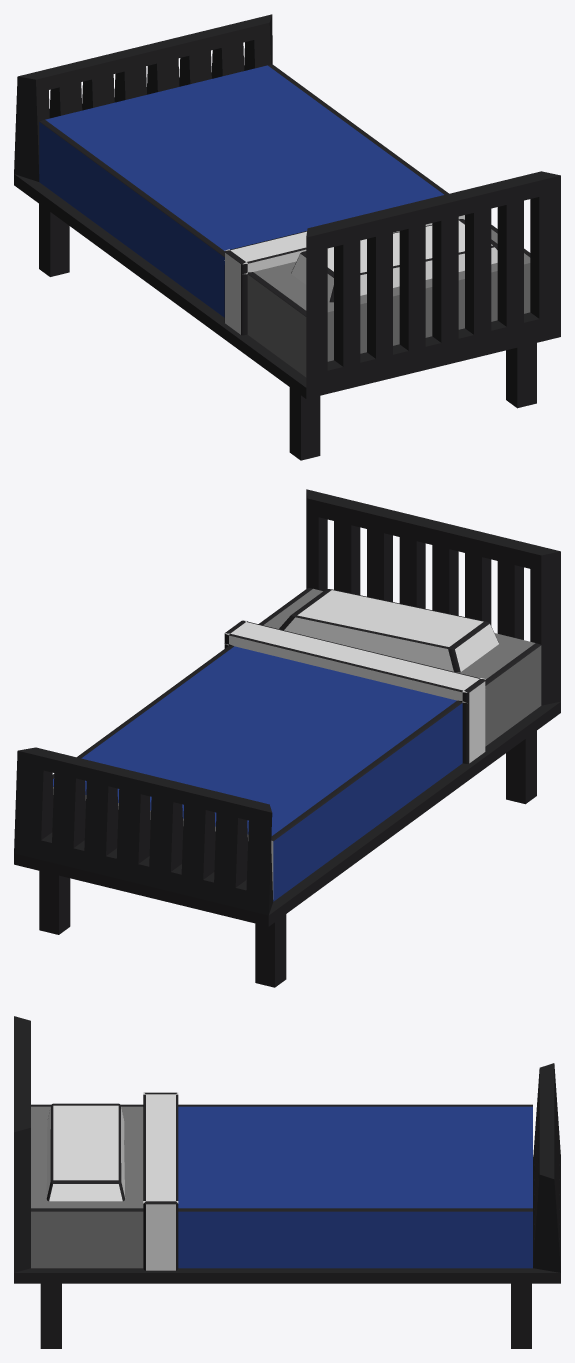
File: J_Bed.fbx
The picture shows the model from 3 angles, top to bottom: view 1: azimuth 30°, elevation 25°; view 2: azimuth 150°, elevation 25°; view 3: azimuth 270°, elevation 25°; orthographic projection. The views are drawn at different scales.
Parts seen in each view (by area): view 1: Cube.026; view 2: Cube.026; view 3: Cube.026.
Boxes of the visible parts, bbox=[...] form: Cube.026: bbox=[14, 14, 560, 460]; Cube.026: bbox=[14, 489, 560, 987]; Cube.026: bbox=[14, 1016, 560, 1348].
Bounding box in the file's own units: 107 × 95.18 × 213.
